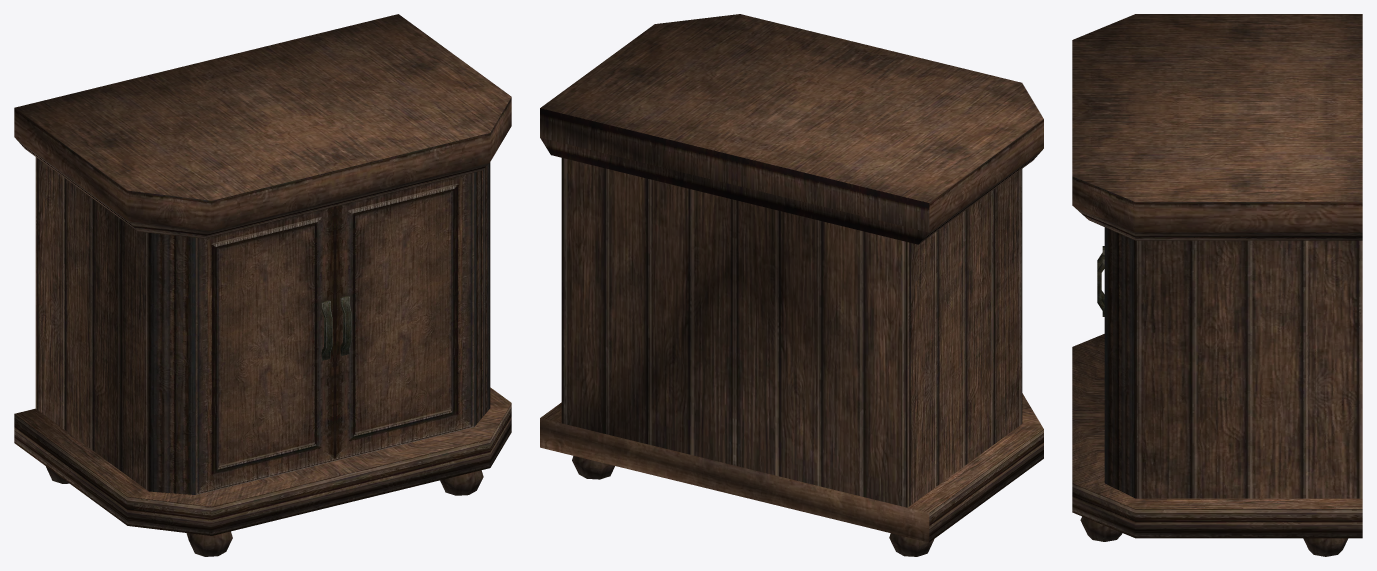
Rendered from GS_CITY_CUPBOARD_ORANGE_01_2_KOZA.glb.
The picture shows the model from 3 angles, left to right: view 1: azimuth 30°, elevation 25°; view 2: azimuth 150°, elevation 25°; view 3: azimuth 270°, elevation 25°; orthographic projection.
Parts seen in each view (by area): view 1: Mesh; view 2: Mesh; view 3: Mesh.
Part boxes in pixels (x1,y1,x2,y2): Mesh: [14, 14, 511, 556]; Mesh: [540, 14, 1043, 556]; Mesh: [1072, 14, 1362, 556].
Size of the model in its own units: 1.38 by 1.25 by 0.9.
Materials: 4 (4 with a texture image).
